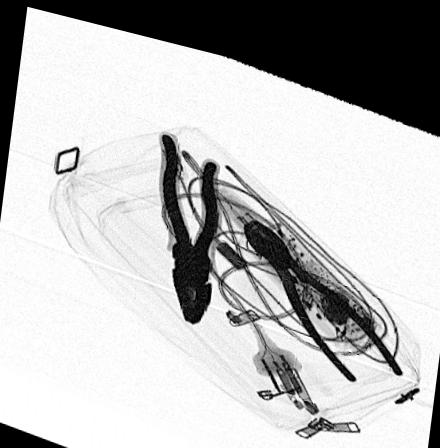Pliers: (240, 203, 406, 366), (155, 120, 222, 316)
